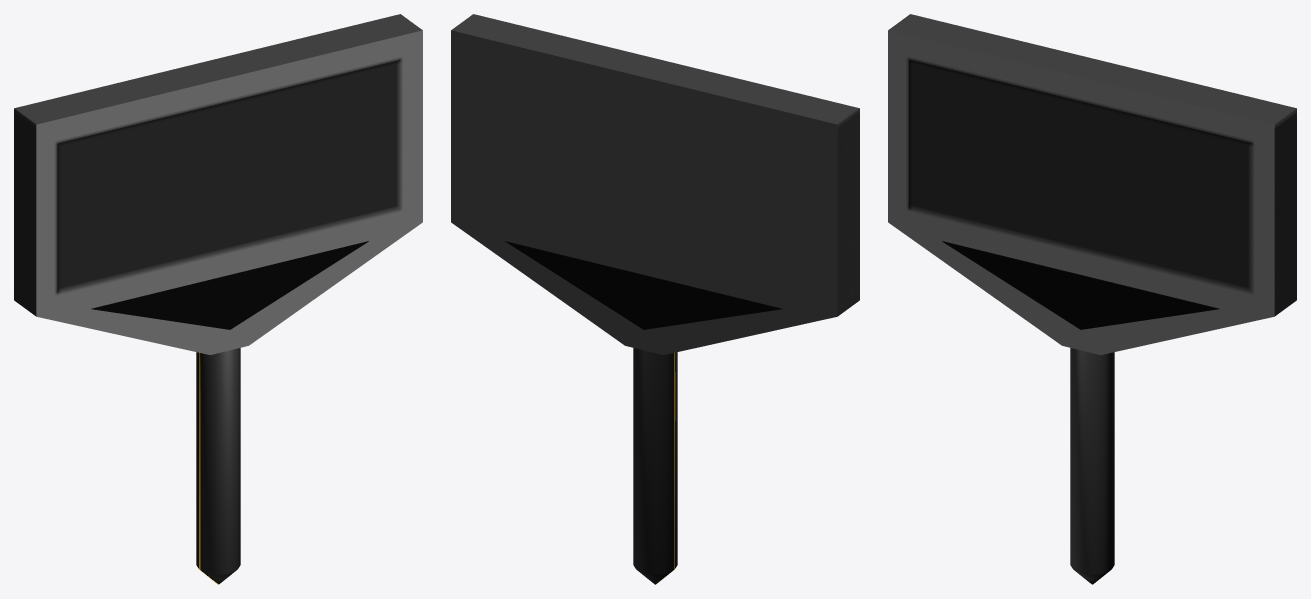
The model's file is ll-measure.fbx.
The picture shows the model from 3 angles, left to right: view 1: azimuth 30°, elevation 25°; view 2: azimuth 150°, elevation 25°; view 3: azimuth 330°, elevation 25°; orthographic projection.
Visible parts, largest first — view 1: measure-body, stake, measure-color; view 2: measure-body, stake, measure-color; view 3: measure-body, stake, measure-color.
Part boxes in pixels (box(x1,y1,x2,y2)): measure-body: box(14, 14, 422, 354); stake: box(196, 348, 240, 584); measure-color: box(91, 241, 368, 329); measure-body: box(451, 14, 859, 354); stake: box(633, 348, 677, 584); measure-color: box(505, 241, 782, 329); measure-body: box(888, 14, 1296, 354); stake: box(1070, 348, 1114, 584); measure-color: box(942, 241, 1219, 329).
Bounding box in the file's own units: 0.4 × 0.51 × 0.042.
